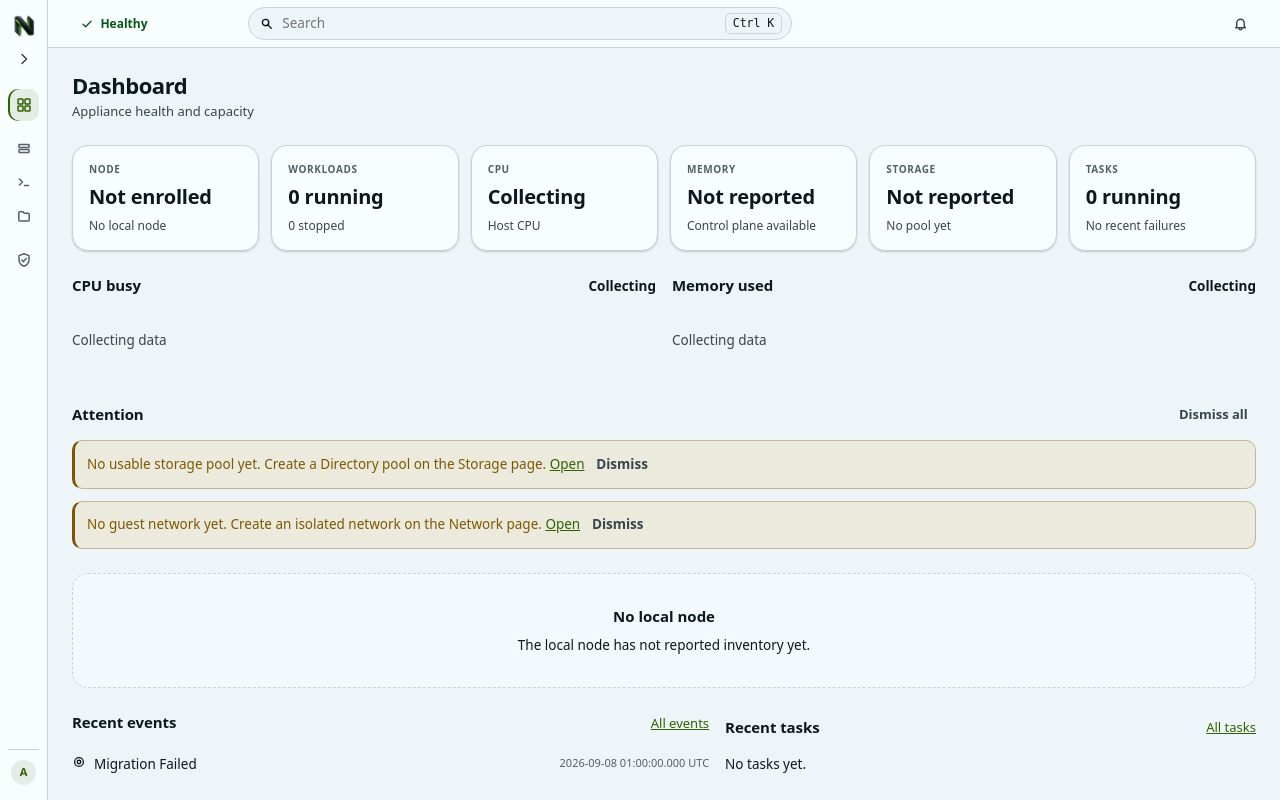
Test: Dashboard activity details › expands a recent event with ids and copy details
Expected: the heading "Recent events" is shown, [72, 712, 176, 734]
Click the button "Migration Failed 2026-09-08 01:00:00.000 UTC" at (145, 764), box [72, 755, 709, 774]
(page scrolled)
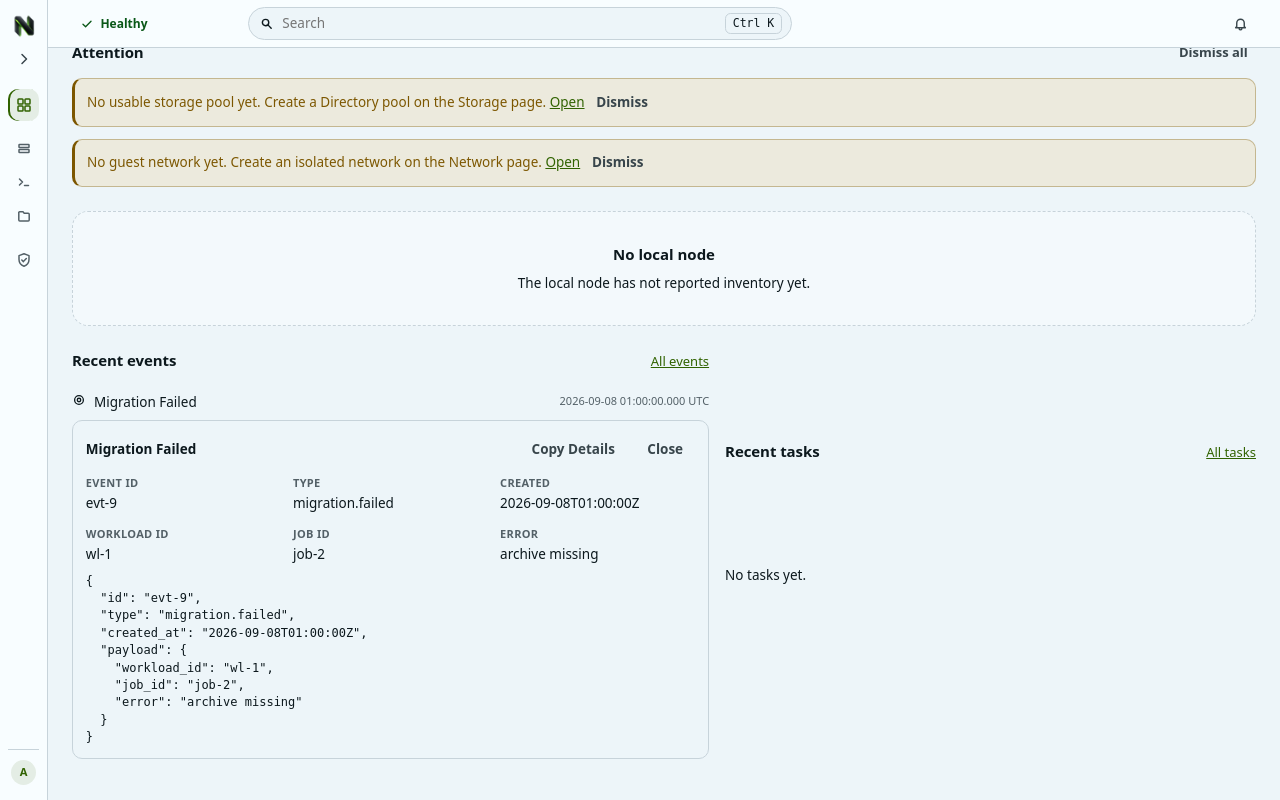
Now the text "evt-9" is shown, box [86, 494, 117, 512]
Now the text "job-2" is shown, box [293, 545, 325, 563]
Click the button "Copy Details" at (573, 450), box [519, 433, 627, 467]
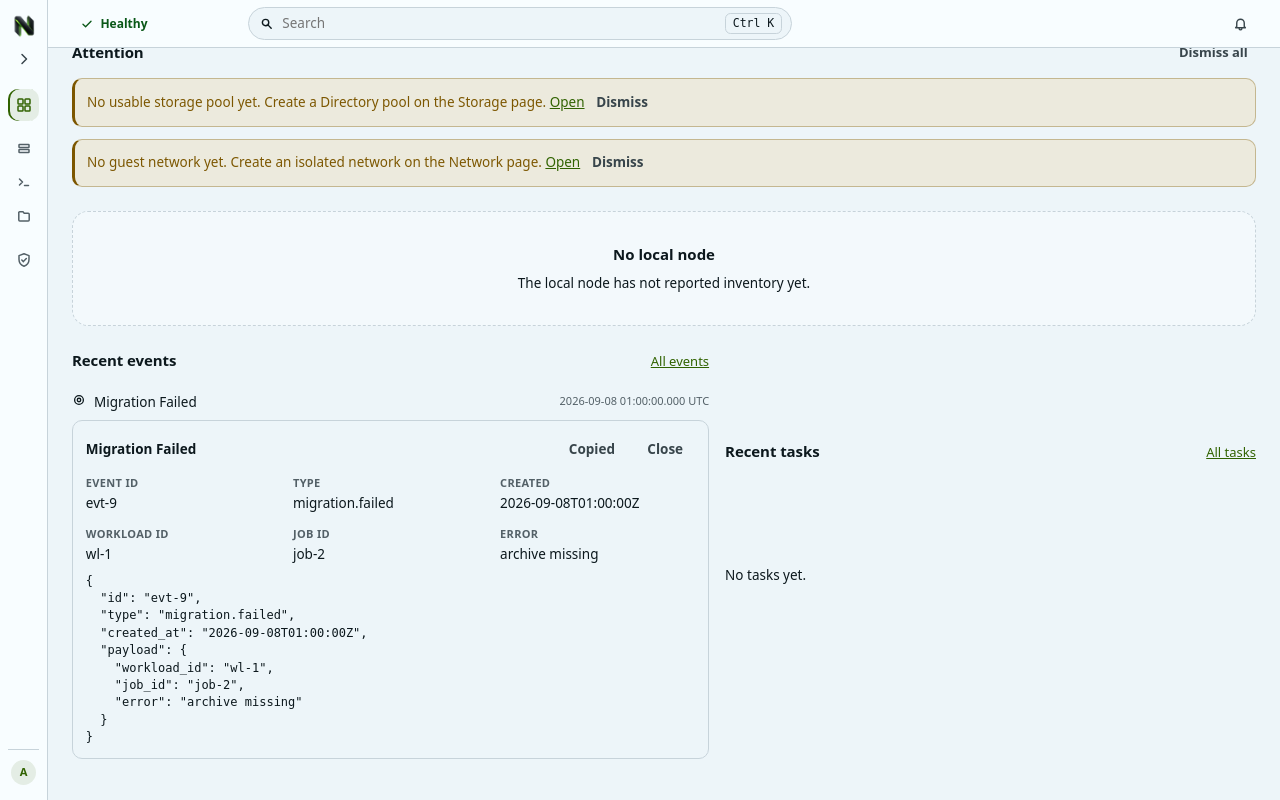
Now the button "Copied" is shown, box [557, 433, 627, 467]
